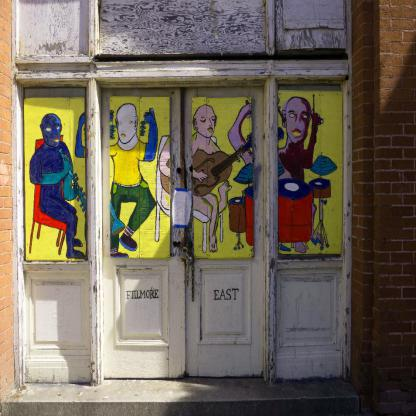door: (182, 83, 269, 379), (101, 86, 182, 379)
knob: (184, 246, 196, 266)
